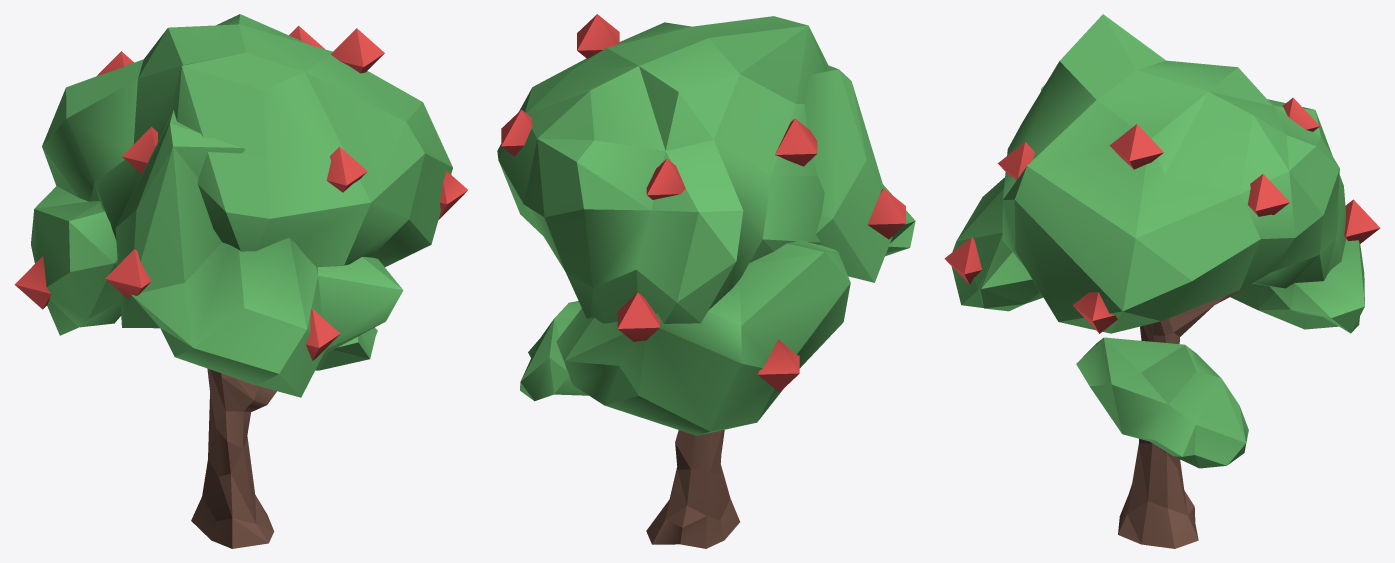
File: tree_011.glb
3 views of the same model, side by side, from view 1: azimuth 30°, elevation 25°; view 2: azimuth 150°, elevation 25°; view 3: azimuth 270°, elevation 25° (orthographic). The views are drawn at different scales.
Visible parts, largest first — view 1: tree_011; view 2: tree_011; view 3: tree_011.
Part boxes in pixels (left/top/right/bottom): tree_011: left=14, top=14, right=467, bottom=548; tree_011: left=497, top=14, right=915, bottom=548; tree_011: left=944, top=14, right=1380, bottom=548.
Bounding box in the file's own units: 3.36 × 4.43 × 3.65.
Materials: 1 (1 with a texture image).
